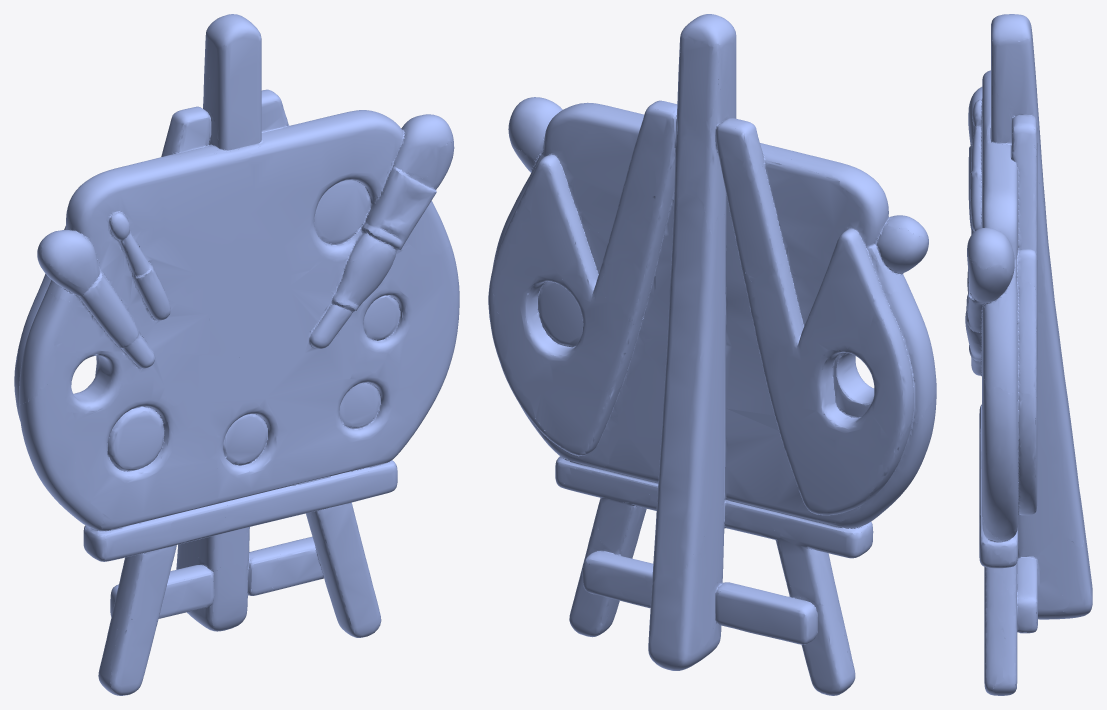
Rendered from artes.glb.
3 views of the same model, side by side, from view 1: azimuth 30°, elevation 25°; view 2: azimuth 150°, elevation 25°; view 3: azimuth 270°, elevation 25° (orthographic). The views are drawn at different scales.
Visible parts, largest first — view 1: model; view 2: model; view 3: model.
Boxes of the visible parts, <box> form: model: <box>14,14,459,695</box>; model: <box>488,14,936,695</box>; model: <box>965,14,1092,695</box>.
Size of the model in its own units: 1.21 by 1.72 by 0.3193.
